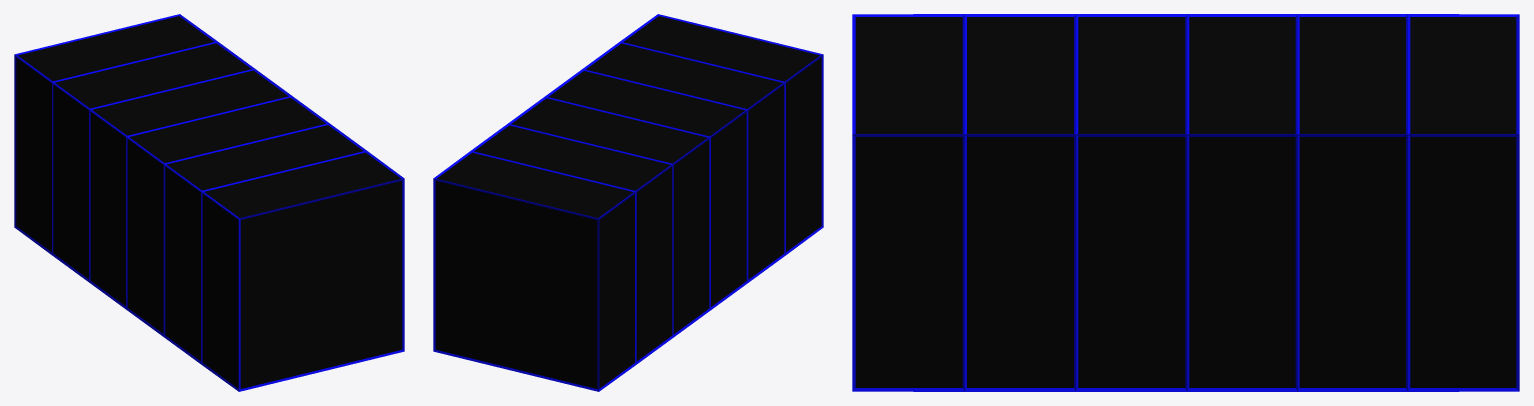
File: building06.obj
3 renders of one model, left to right at view 1: azimuth 30°, elevation 25°; view 2: azimuth 150°, elevation 25°; view 3: azimuth 270°, elevation 25°, orthographic. The views are drawn at different scales.
Parts seen in each view (by area): view 1: Cube.005; view 2: Cube.005; view 3: Cube.005.
Boxes of the visible parts, left/top/right/bottom form: Cube.005: left=14, top=14, right=404, bottom=391; Cube.005: left=433, top=14, right=823, bottom=391; Cube.005: left=852, top=14, right=1519, bottom=391.
Size of the model in its own units: 2.02 by 2.02 by 4.74.
